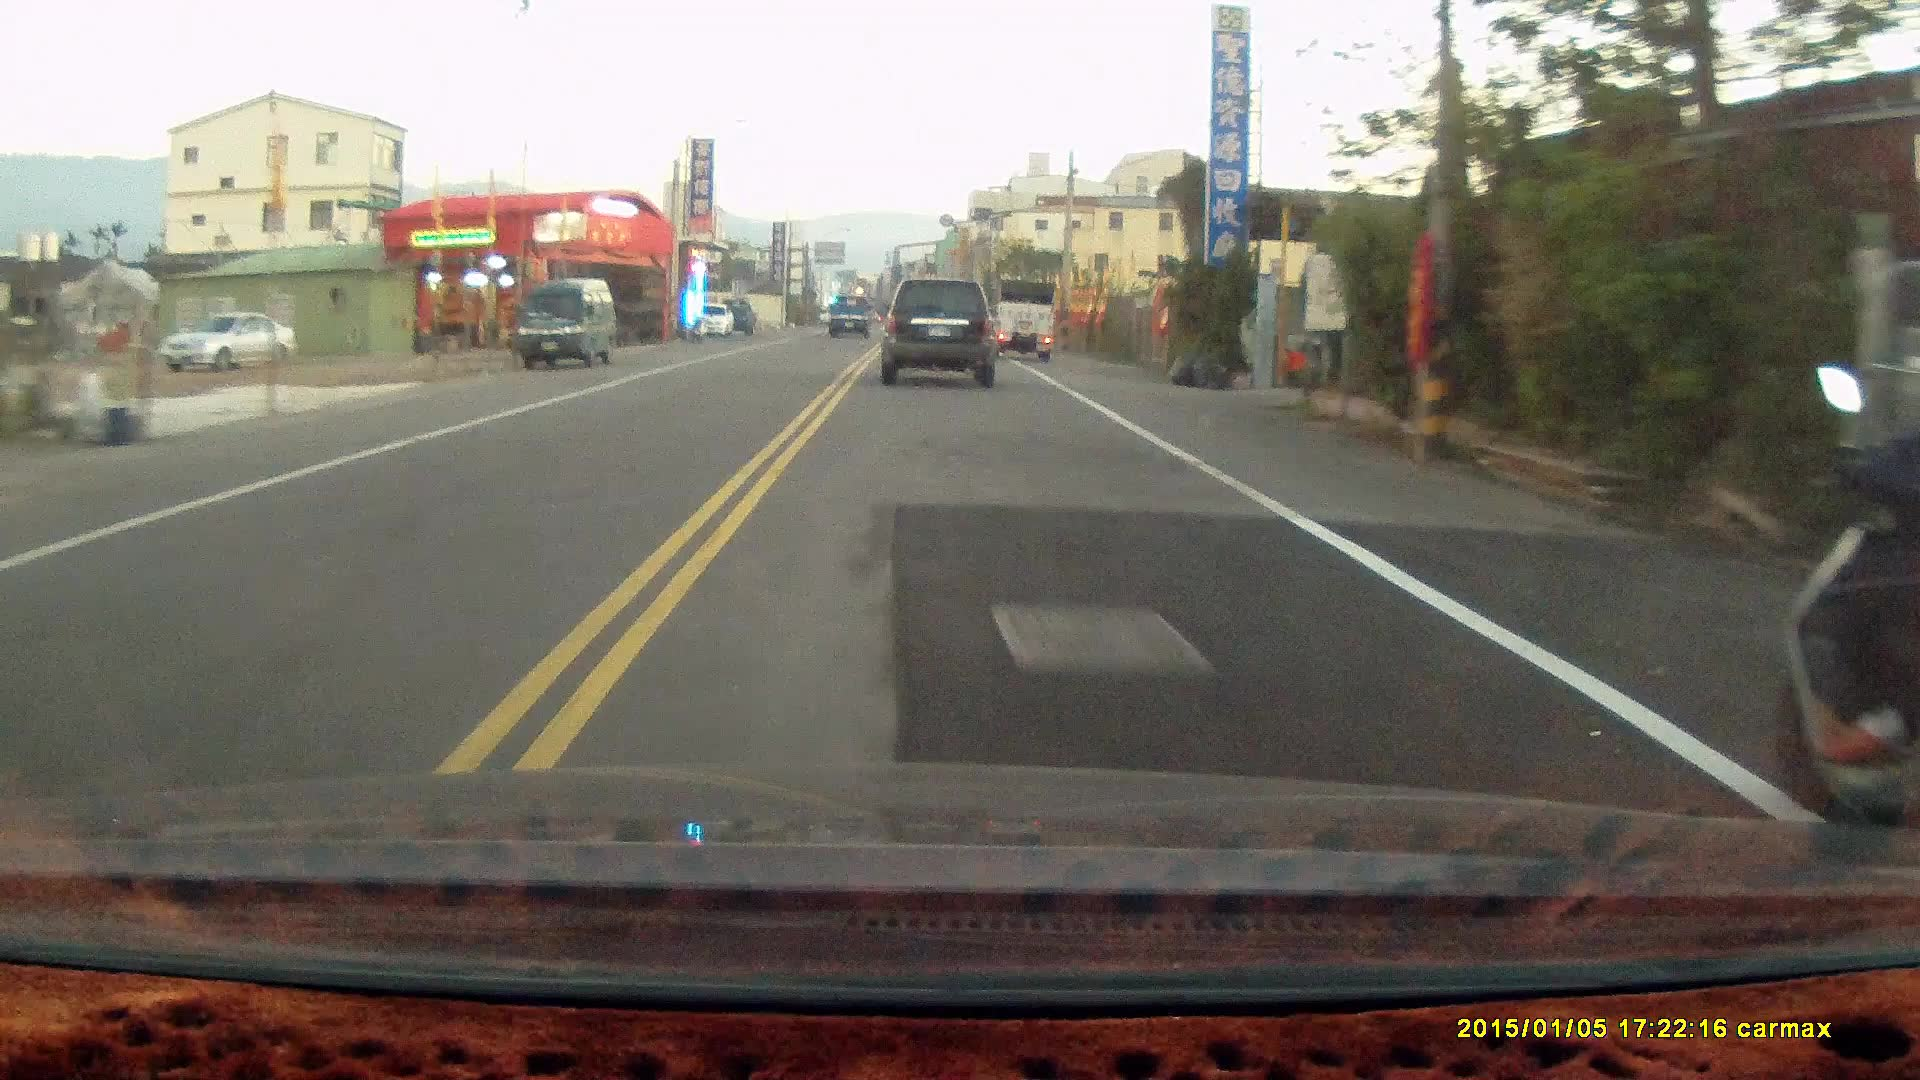rider: (1771, 296, 1920, 842)
vehicle: (871, 268, 1005, 386), (158, 306, 300, 372), (519, 278, 617, 372), (983, 276, 1059, 362), (826, 293, 877, 338)
